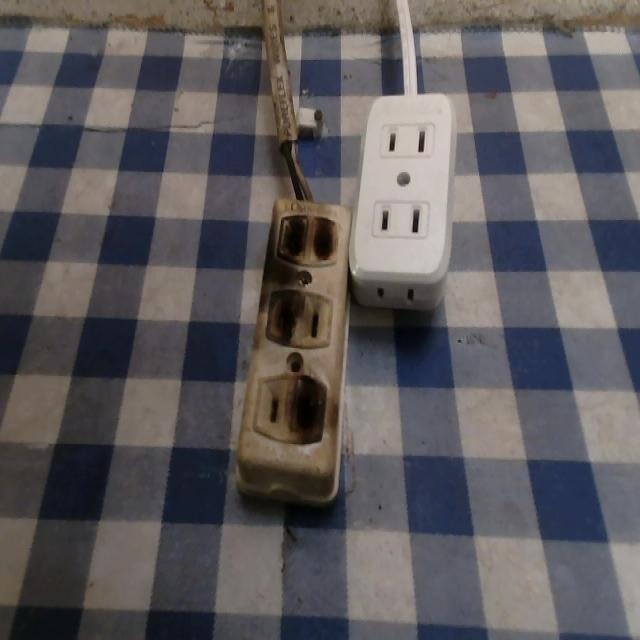-: (271, 203, 347, 272), (260, 285, 311, 352), (290, 372, 333, 451)
